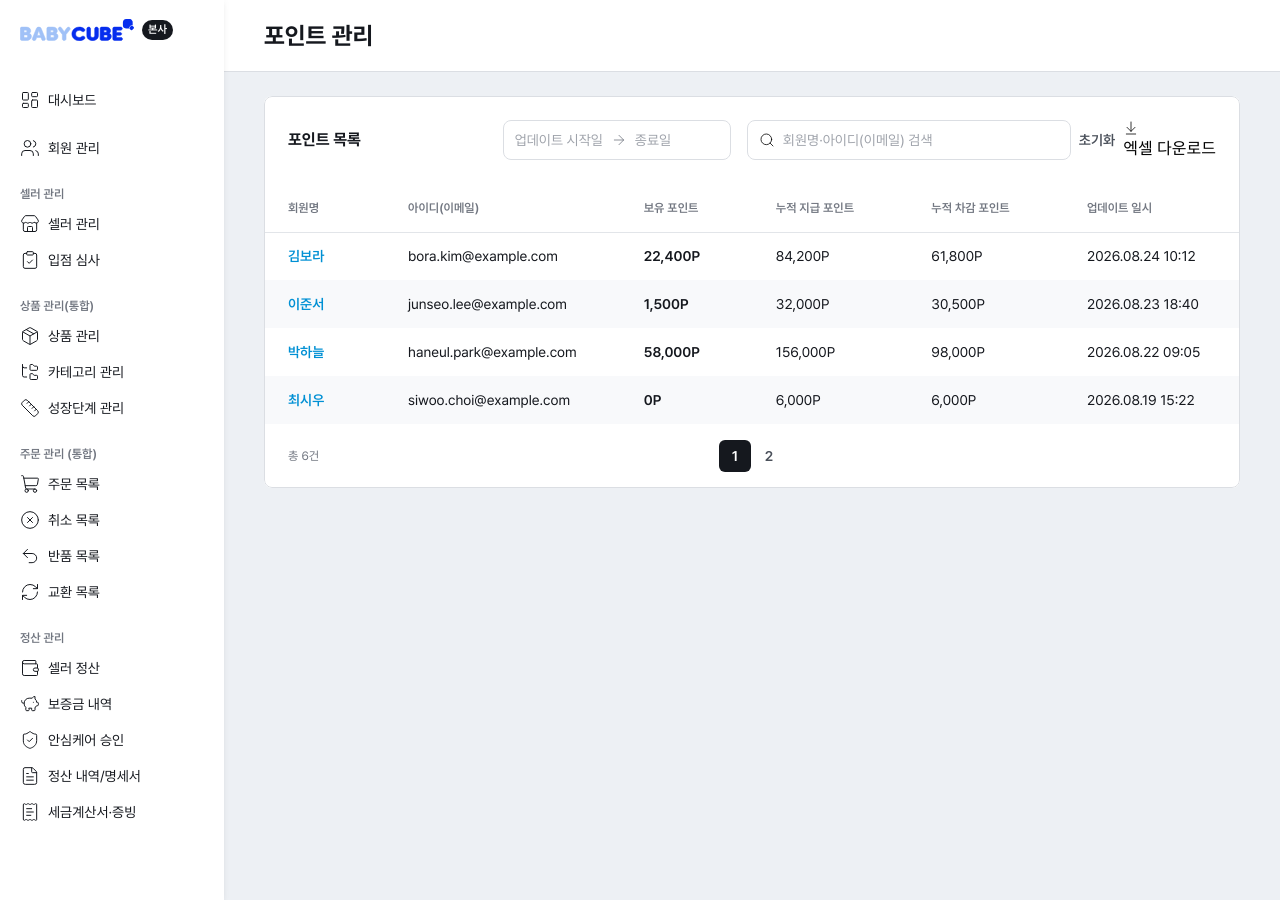
Test case: PointListPage › 회원명 → 포인트 미리보기 › 회원명을 누르면 그 회원의 포인트가 모달에 뜬다
Click the button "박하늘".
click(306, 352)  # box [288, 340, 324, 364]
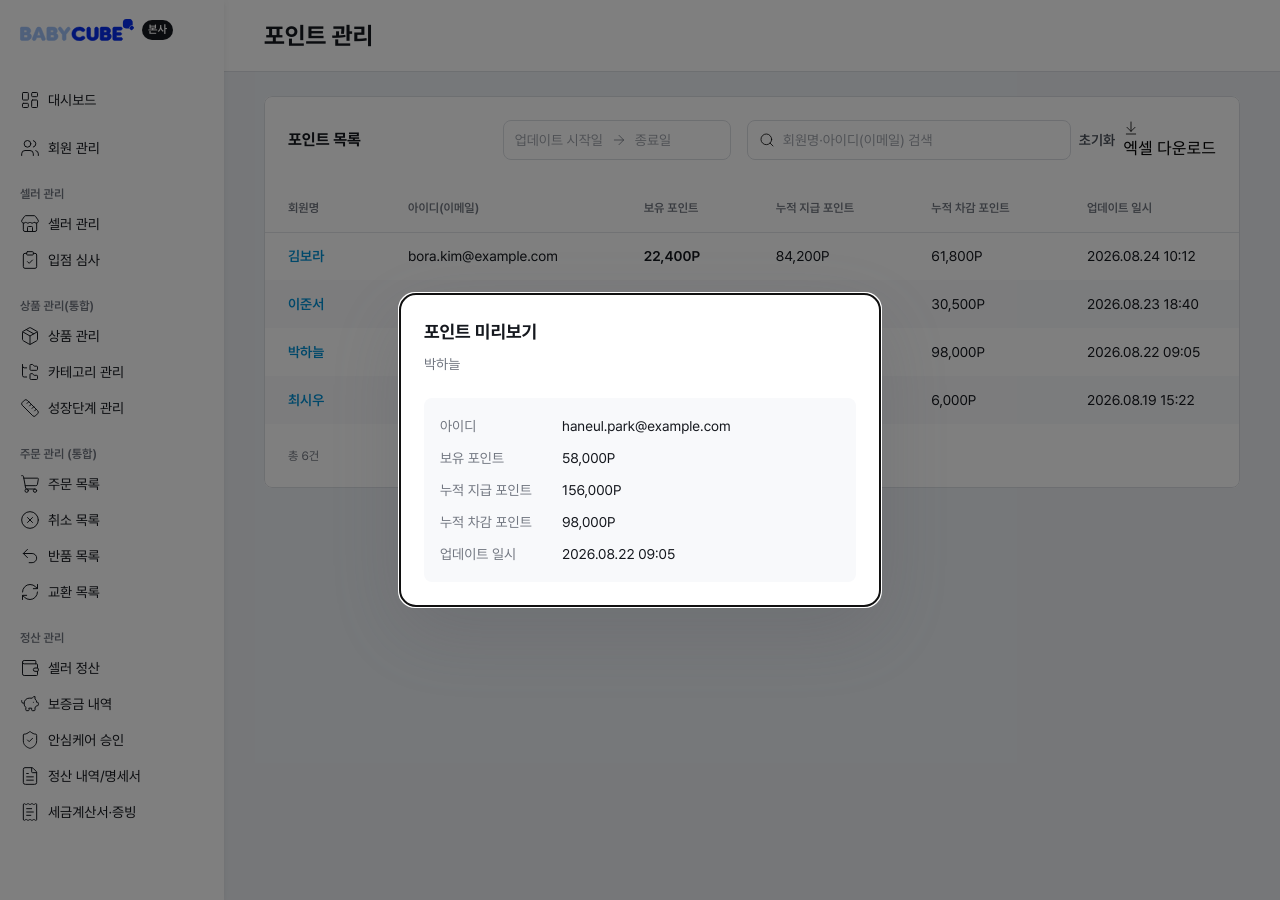
Expected: the heading "포인트 미리보기" is shown, [424, 321, 537, 342]
